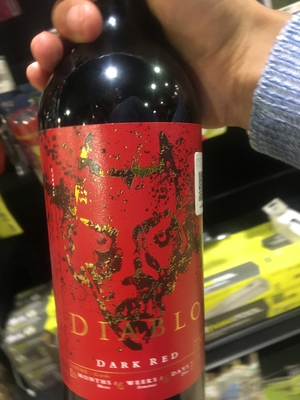diablo dark red: (41, 4, 235, 400)
